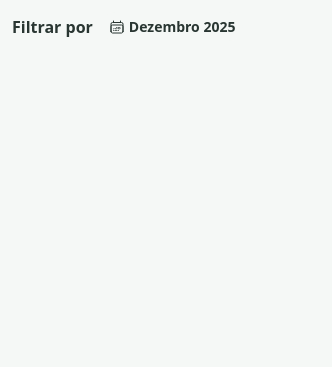
it: rejeita submit de período futuro e permite corrigir até o mês atual
Later steps or results of the test are not shown.
Click the heading named "Mês e ano" at (172, 26), box x1=101 y1=12 x2=243 y2=41
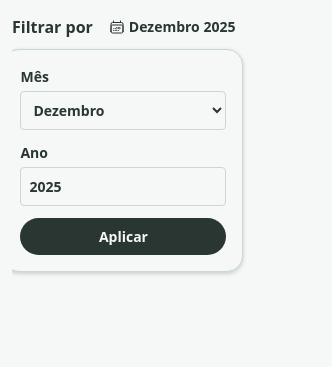
Replace the text in the number field labelled "Ano" with "2026" at (124, 186), box x1=20 y1=167 x2=226 y2=206
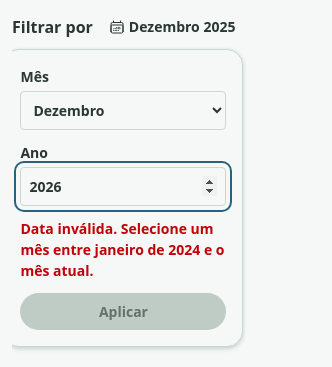
Expected: the message "Data inválida. Selecione um mês entre janeiro de 2024 e o mês atual." is shown, x1=20 y1=218 x2=226 y2=281
Expected: the button "Aplicar" is disabled, x1=20 y1=293 x2=226 y2=330
Submit the form named "Aplicar período"
Expected: the heading named "Mês e ano" reads "Dezembro 2025", x1=101 y1=12 x2=243 y2=41
Select "Novembro" in the dropdown labelled "Mês" at (124, 110), box x1=20 y1=91 x2=226 y2=130
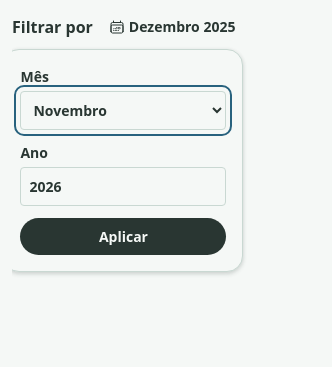
Expected: the message "Data inválida. Selecione um mês entre janeiro de 2024 e o mês atual." is gone
